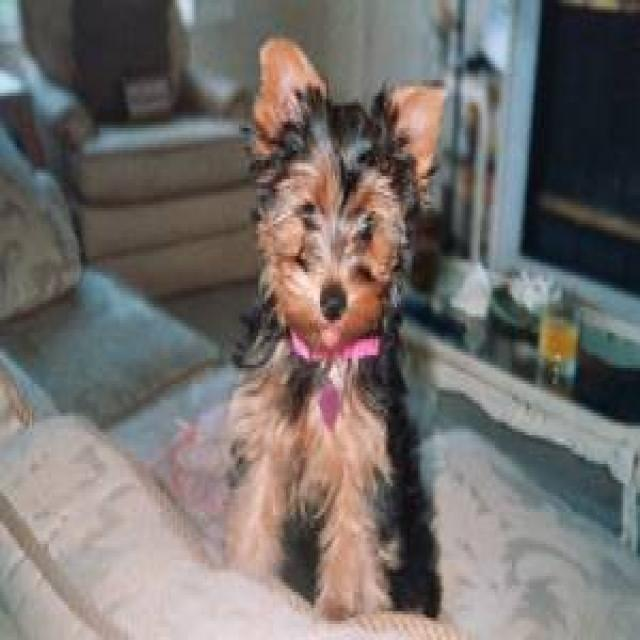dog-yorkshire_terrier: (213, 22, 452, 627)
